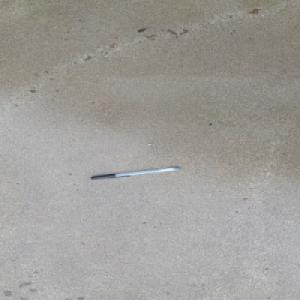Pen: (88, 166, 181, 180)
